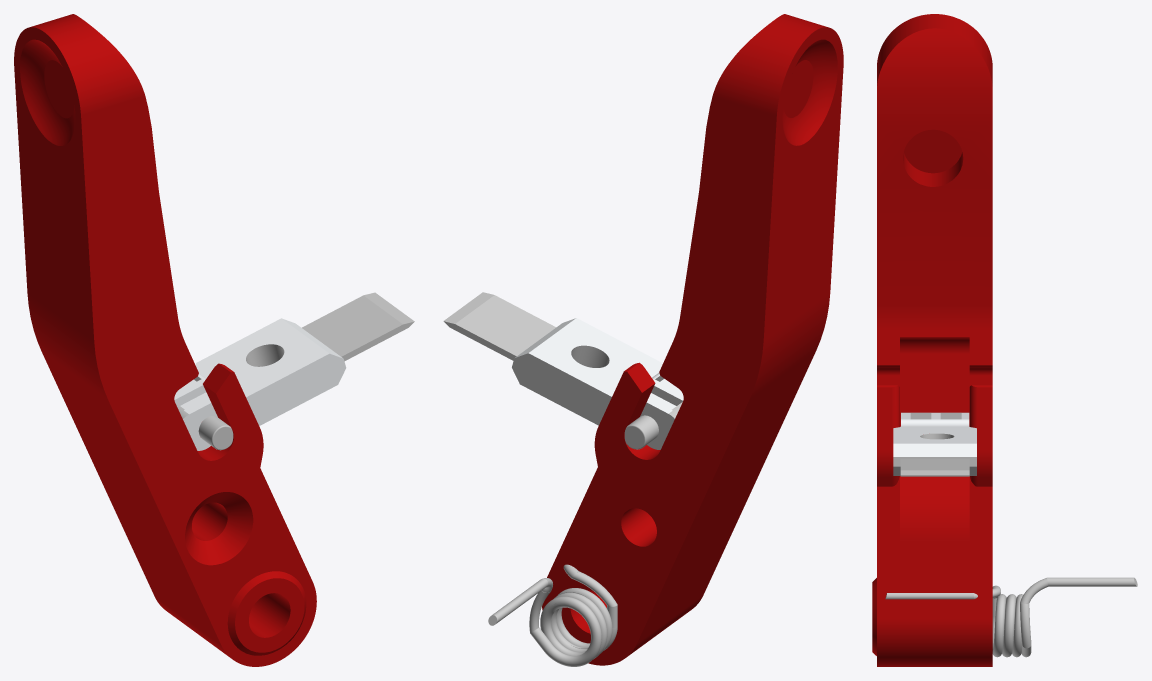
Rendered from Filament Cutter harm.glb.
The picture shows the model from 3 angles, left to right: view 1: azimuth 30°, elevation 25°; view 2: azimuth 150°, elevation 25°; view 3: azimuth 270°, elevation 25°; orthographic projection. The views are drawn at different scales.
Size of the model in its own units: 0.0303 by 0.0543 by 0.0229.
